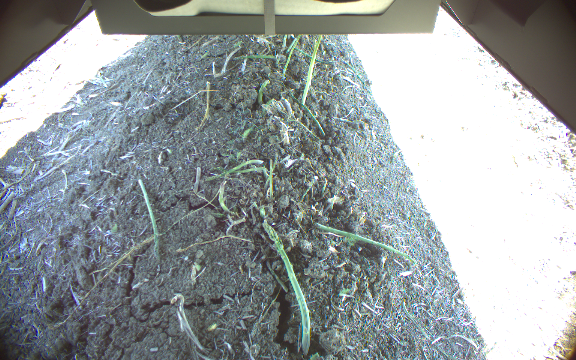aspa: (262, 220, 312, 355), (300, 34, 323, 106)
